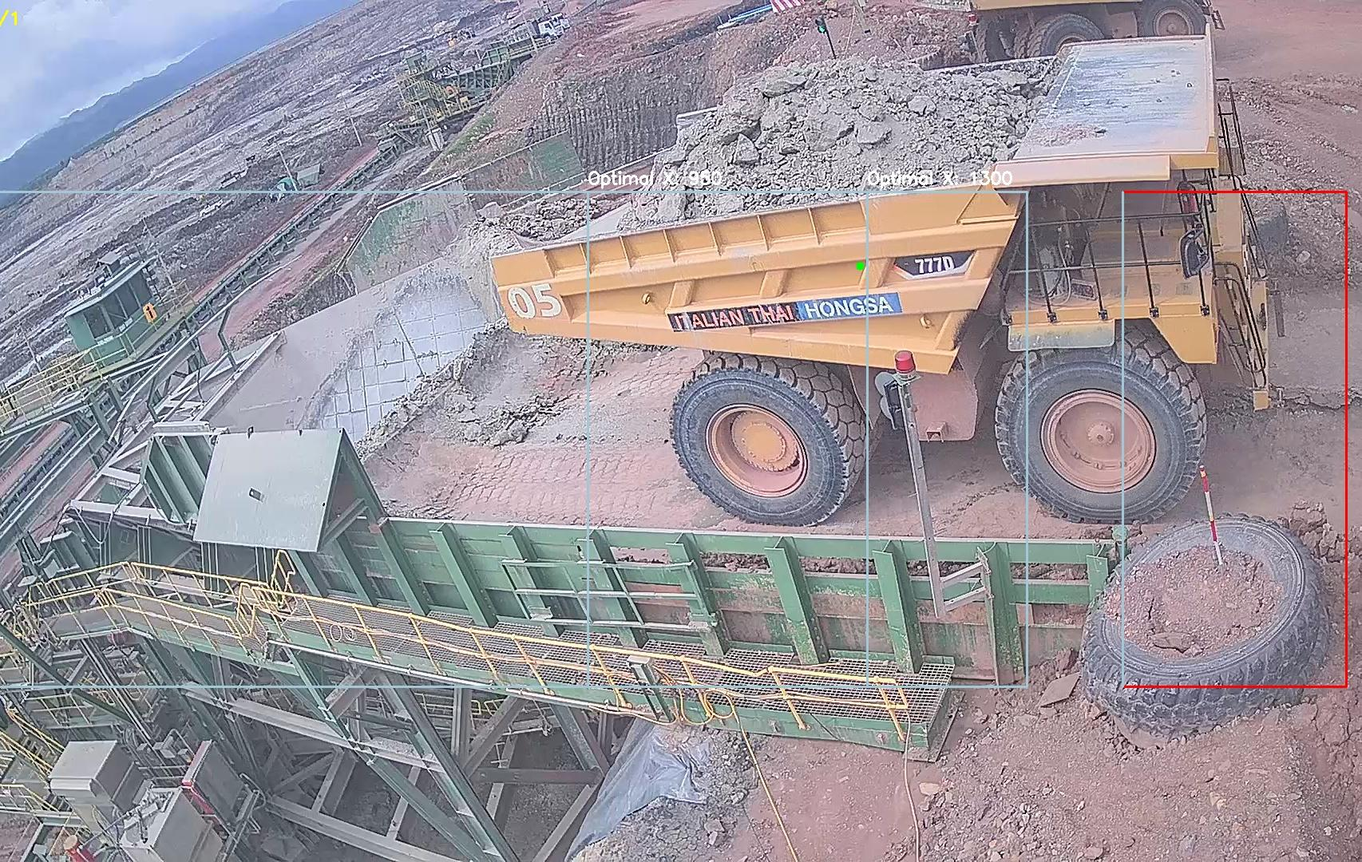company: (660, 288, 915, 339)
full_load: (683, 48, 1010, 214)
mining_truck: (477, 30, 1305, 529)
tail_number: (498, 274, 575, 327)
truck_size: (890, 247, 981, 280)
